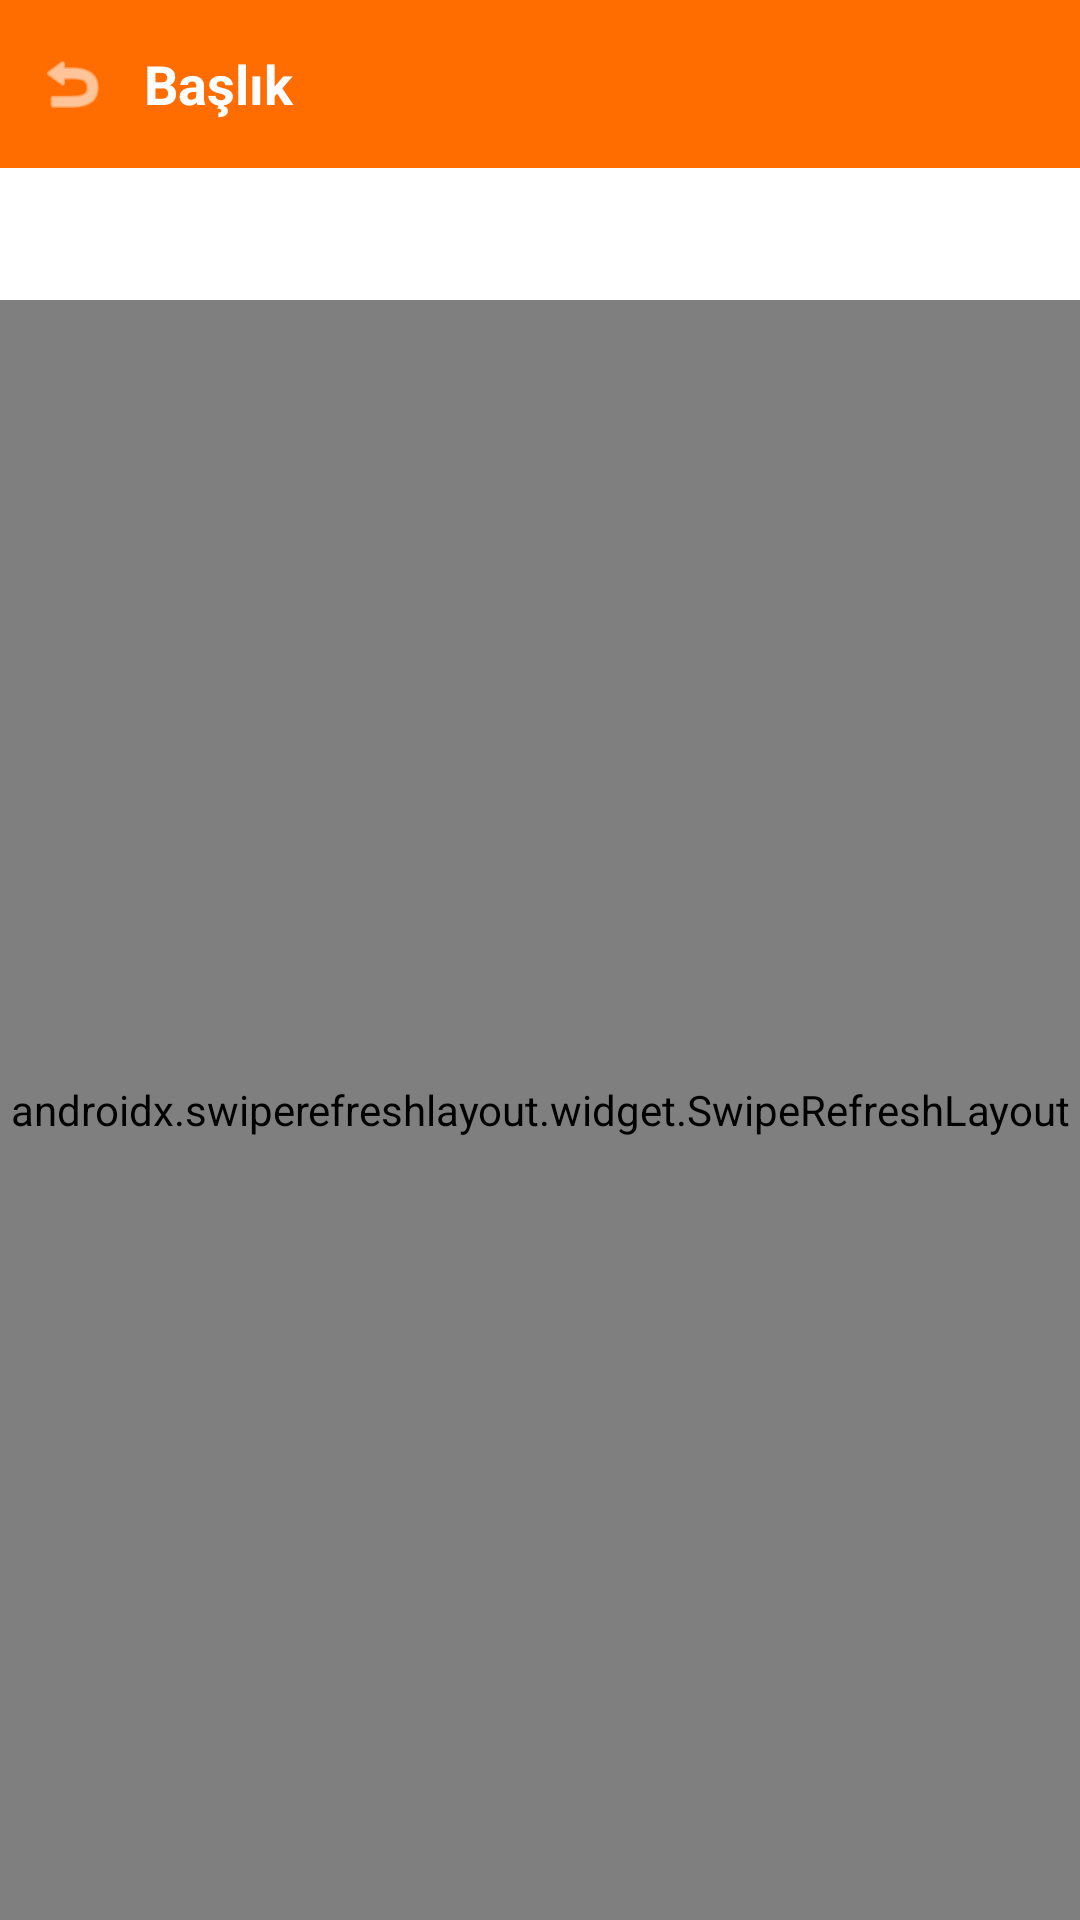

Icon click points for this 1080 × 1920 phone screenshot, format point (x, y):
Geri: point (73, 84)
